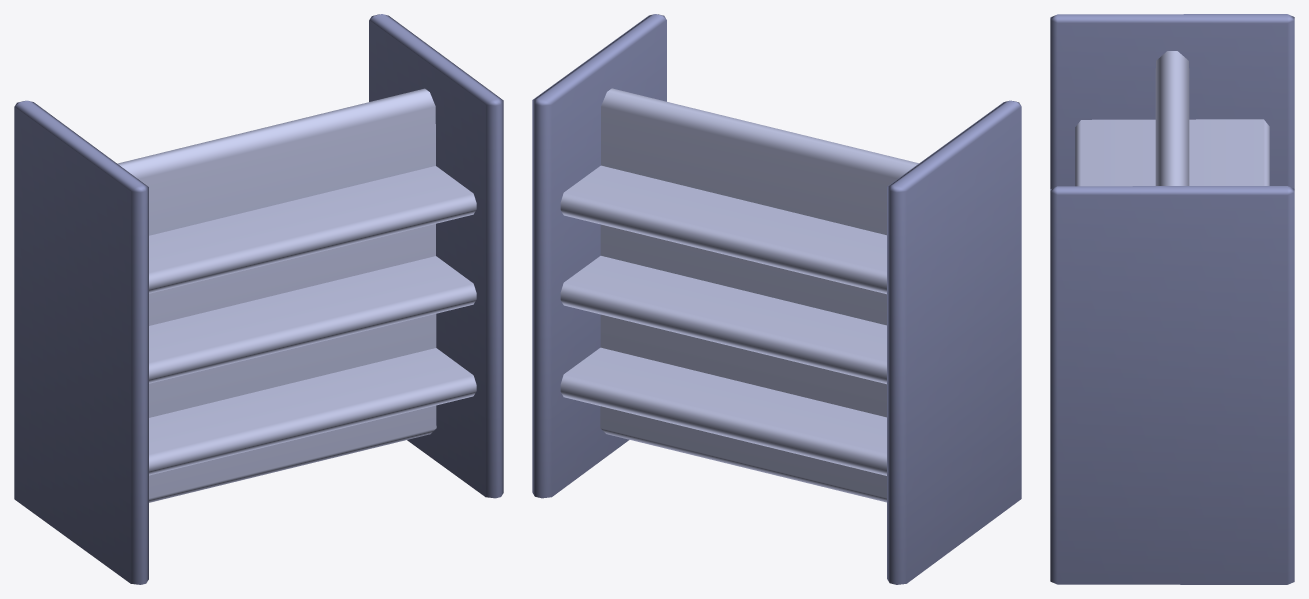
File: Shelf_01.fbx
3 renders of one model, left to right at view 1: azimuth 30°, elevation 25°; view 2: azimuth 150°, elevation 25°; view 3: azimuth 270°, elevation 25°, orthographic.
Parts seen in each view (by area): view 1: Shelf_01; view 2: Shelf_01; view 3: Shelf_01.
Boxes of the visible parts, x1=… form: Shelf_01: x1=14, y1=14, x2=503, y2=584; Shelf_01: x1=532, y1=14, x2=1021, y2=584; Shelf_01: x1=1050, y1=14, x2=1294, y2=584.
Size of the model in its own units: 196 by 198 by 112.
